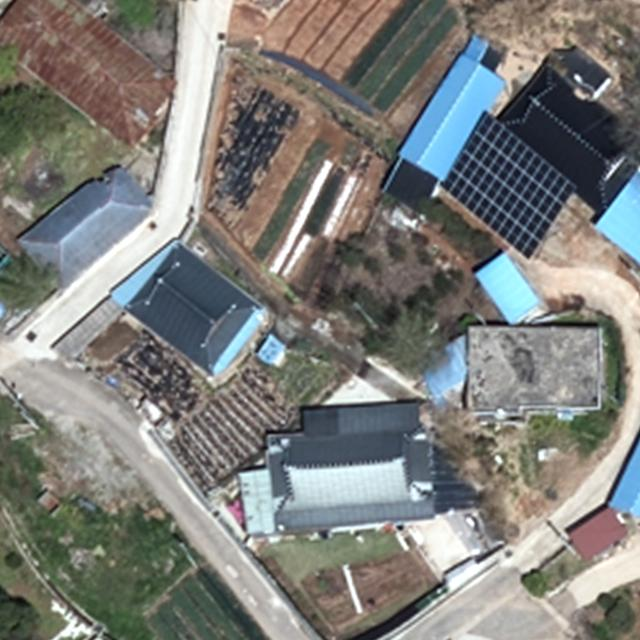panel: (438, 108, 579, 260)
